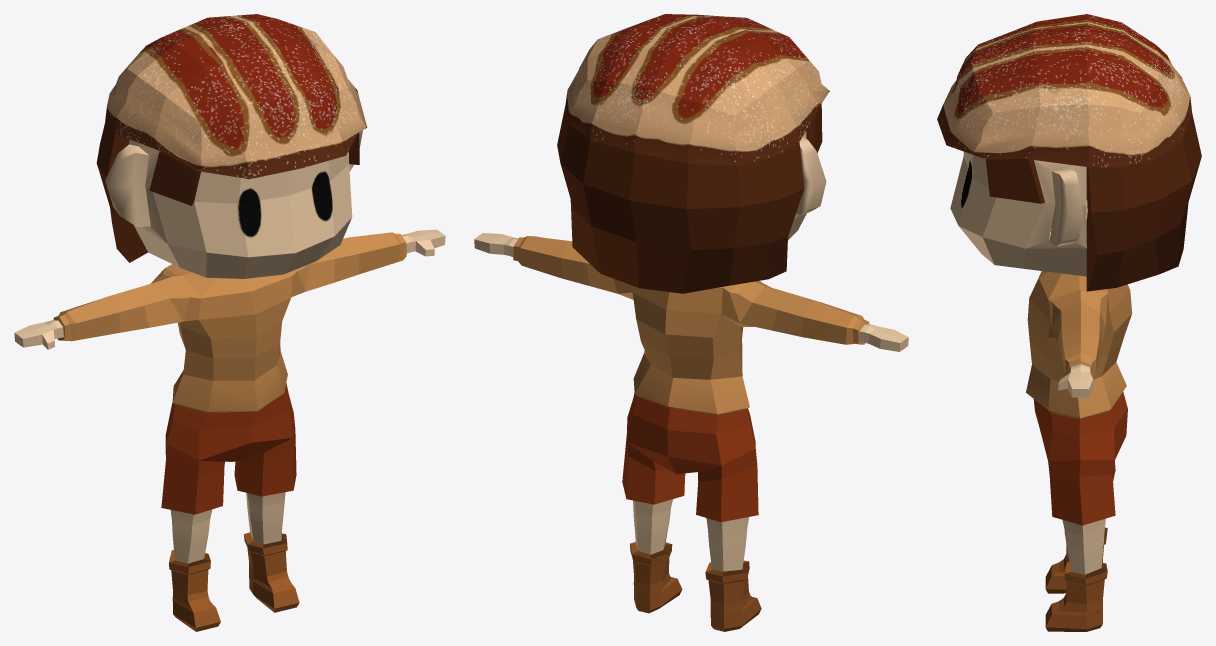
File: Trigorio_texturizado.fbx
3 views of the same model, side by side, from view 1: azimuth 30°, elevation 25°; view 2: azimuth 150°, elevation 25°; view 3: azimuth 270°, elevation 25° (orthographic).
Visible parts, largest first — view 1: polySurface50; view 2: polySurface50; view 3: polySurface50.
Part boxes in pixels (x1,y1,x2,y2): polySurface50: [14, 14, 445, 631]; polySurface50: [474, 14, 908, 631]; polySurface50: [937, 14, 1201, 631].
Bounding box in the file's own units: 64.33 × 84.51 × 35.22.
